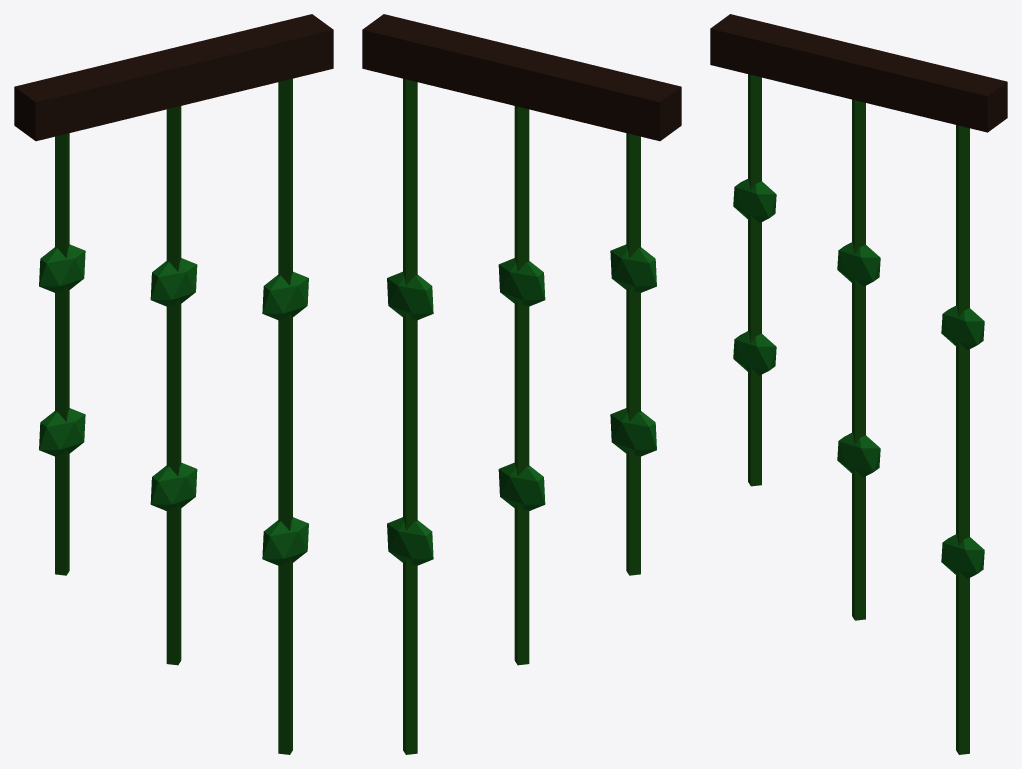
File: hanging_vines.obj
3 views of the same model, side by side, from view 1: azimuth 30°, elevation 25°; view 2: azimuth 150°, elevation 25°; view 3: azimuth 330°, elevation 25° (orthographic). The views are drawn at different scales.
Parts seen in each view (by area): view 1: hanging_vines; view 2: hanging_vines; view 3: hanging_vines.
Boxes of the visible parts, bbox=[...] form: hanging_vines: bbox=[14, 14, 333, 754]; hanging_vines: bbox=[362, 14, 681, 754]; hanging_vines: bbox=[710, 14, 1007, 754].
Bounding box in the file's own units: 0.8 × 1.85 × 0.1.
